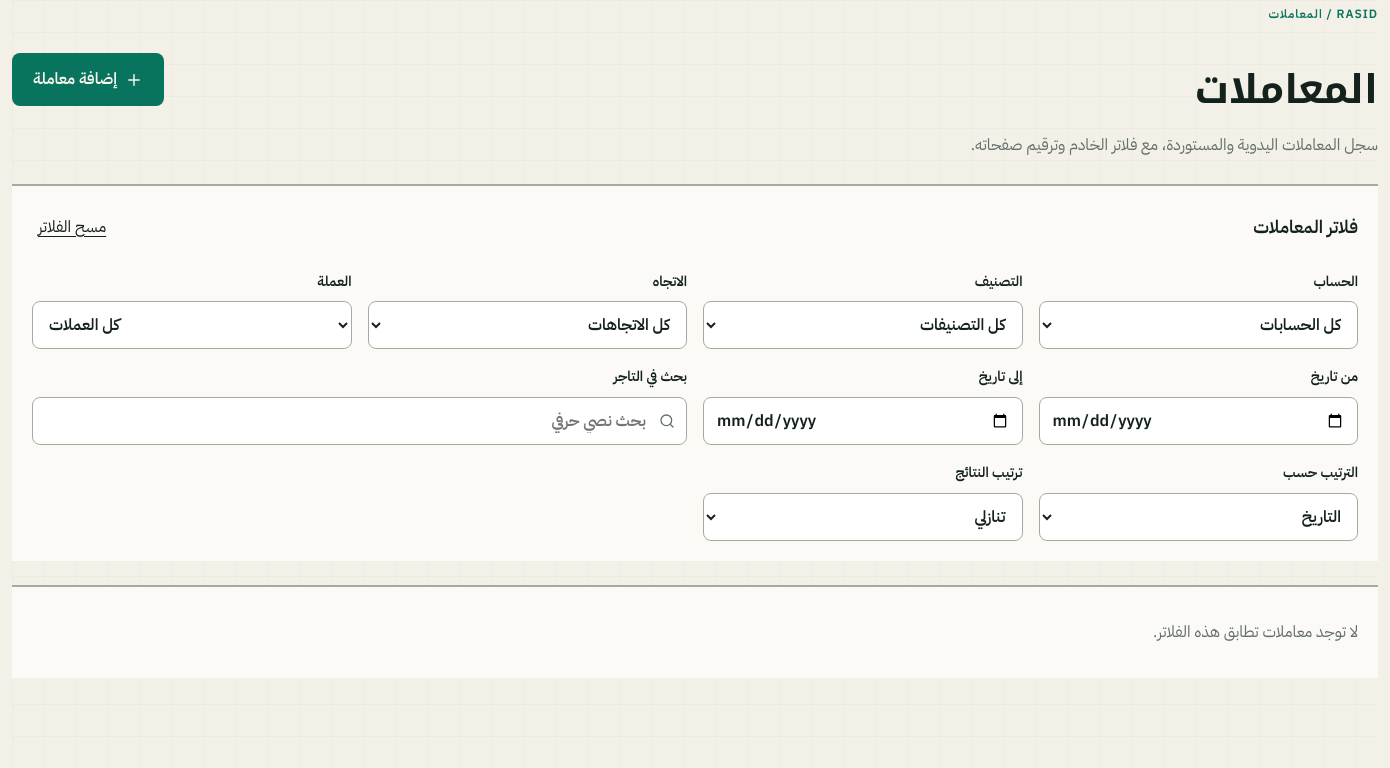
Test: TransactionsPage › does not query an invalid date range and distinguishes an empty server page
The image size is (1390, 768).
Expected: the text "لا توجد معاملات تطابق هذه الفلاتر." is shown, left=1153, top=620, right=1358, bottom=644
Type "2026-09-30" into the date field labelled "من تاريخ" at {"x": 1198, "y": 421}, box left=1038, top=397, right=1358, bottom=445
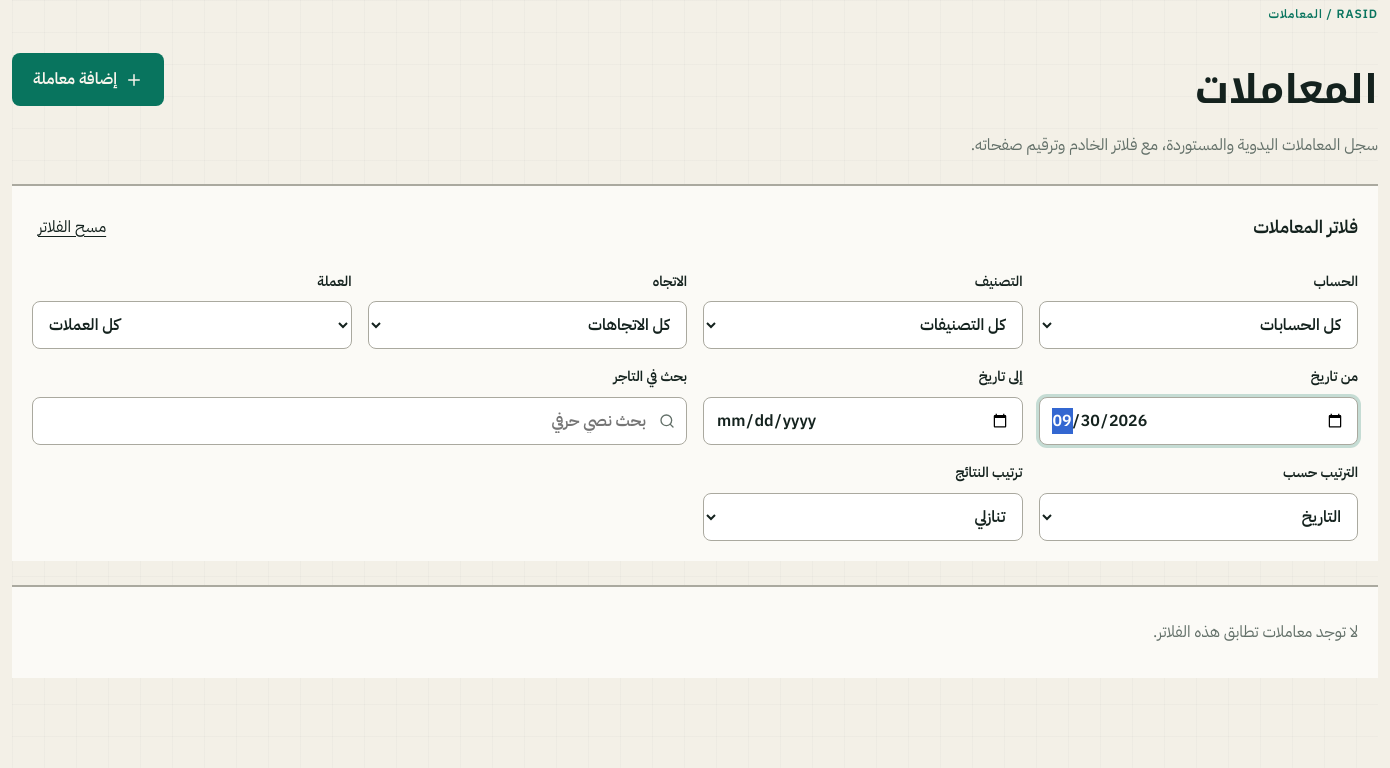
Type "2026-09-01" into the date field labelled "إلى تاريخ" at {"x": 863, "y": 421}, box left=703, top=397, right=1022, bottom=445
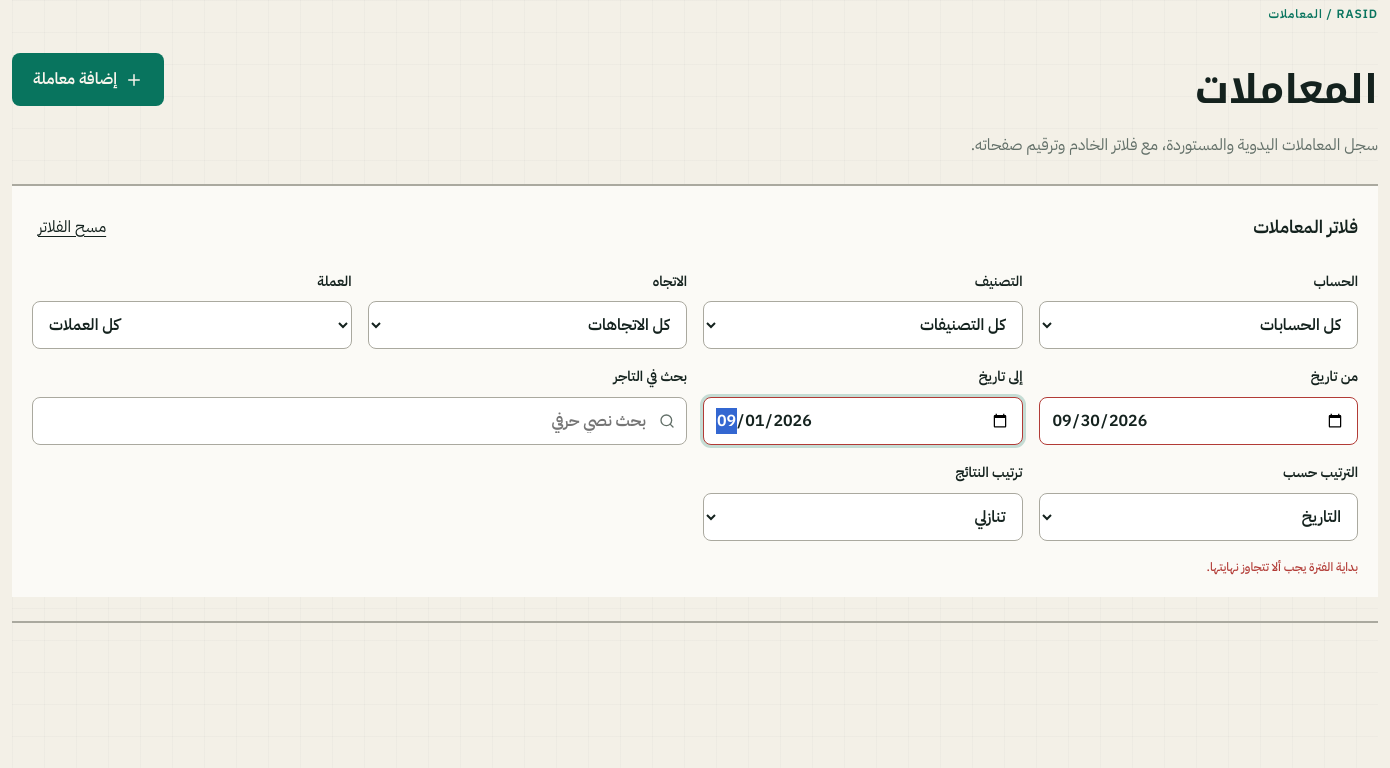
Expected: the message shows "بداية الفترة يجب ألا تتجاوز نهايتها", left=1206, top=558, right=1358, bottom=576
